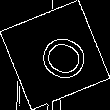O_NW: (23, 25, 87, 85)
